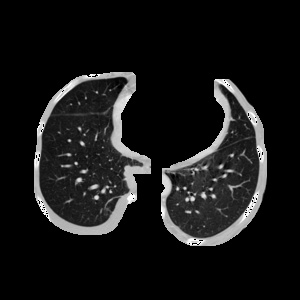PN: (121, 164, 145, 188)
